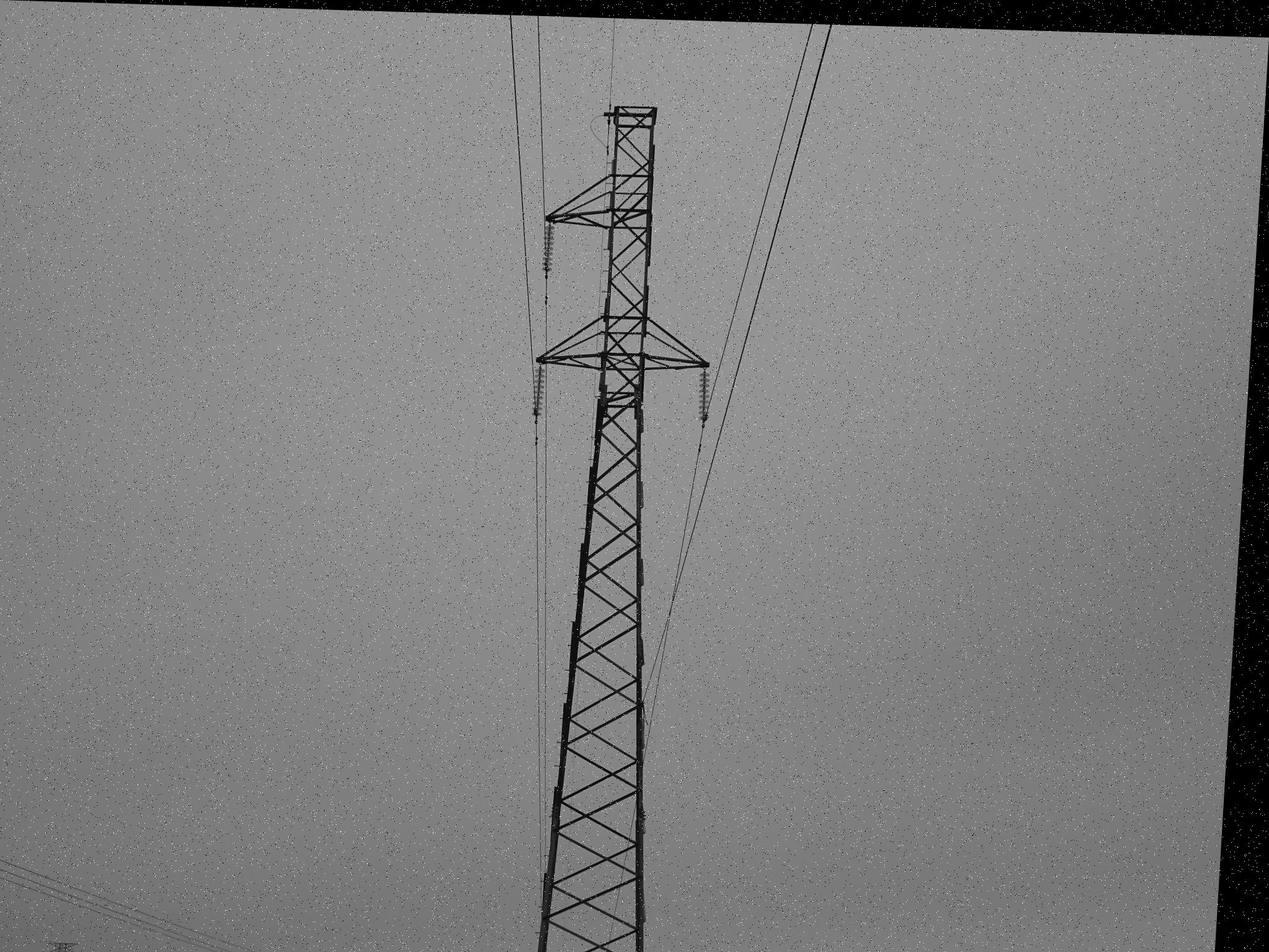tower: (489, 84, 753, 952)
